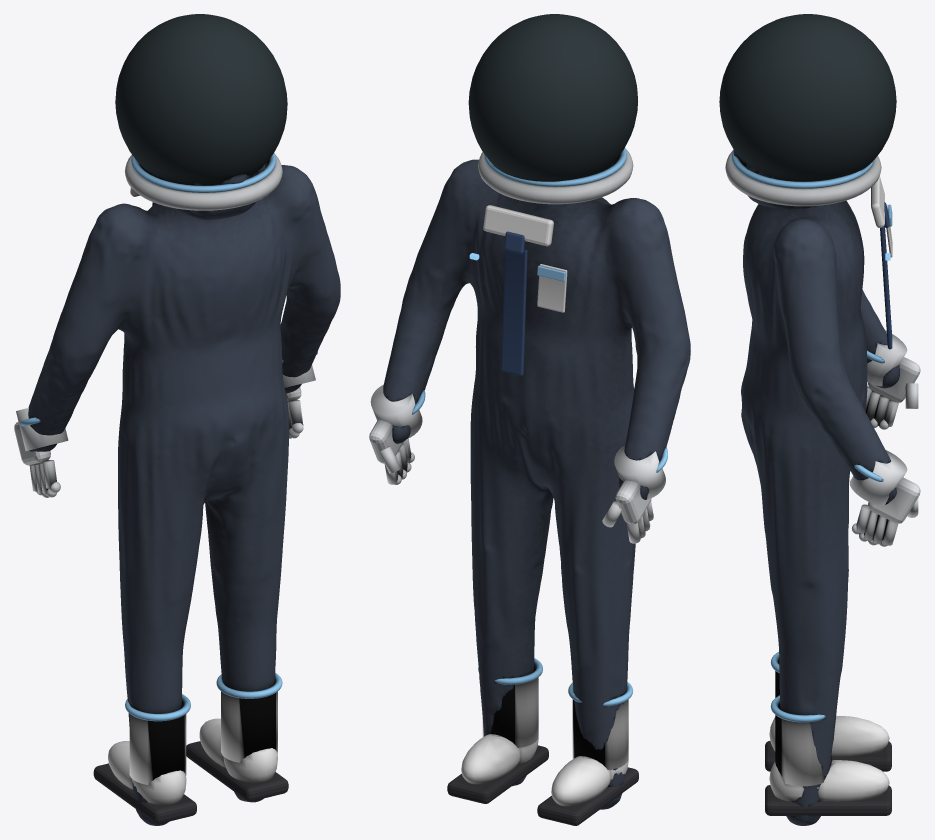
The model's file is staff-broker.glb.
3 renders of one model, left to right at view 1: azimuth 30°, elevation 25°; view 2: azimuth 150°, elevation 25°; view 3: azimuth 270°, elevation 25°, orthographic.
Visible parts, largest first — view 1: Staff; view 2: Staff; view 3: Staff.
Part boxes in pixels (box(x1,y1,x2,y2)): Staff: box(14, 14, 340, 825); Staff: box(369, 14, 690, 825); Staff: box(719, 14, 920, 825).
Bounding box in the file's own units: 0.7341 × 1.89 × 0.4427.
